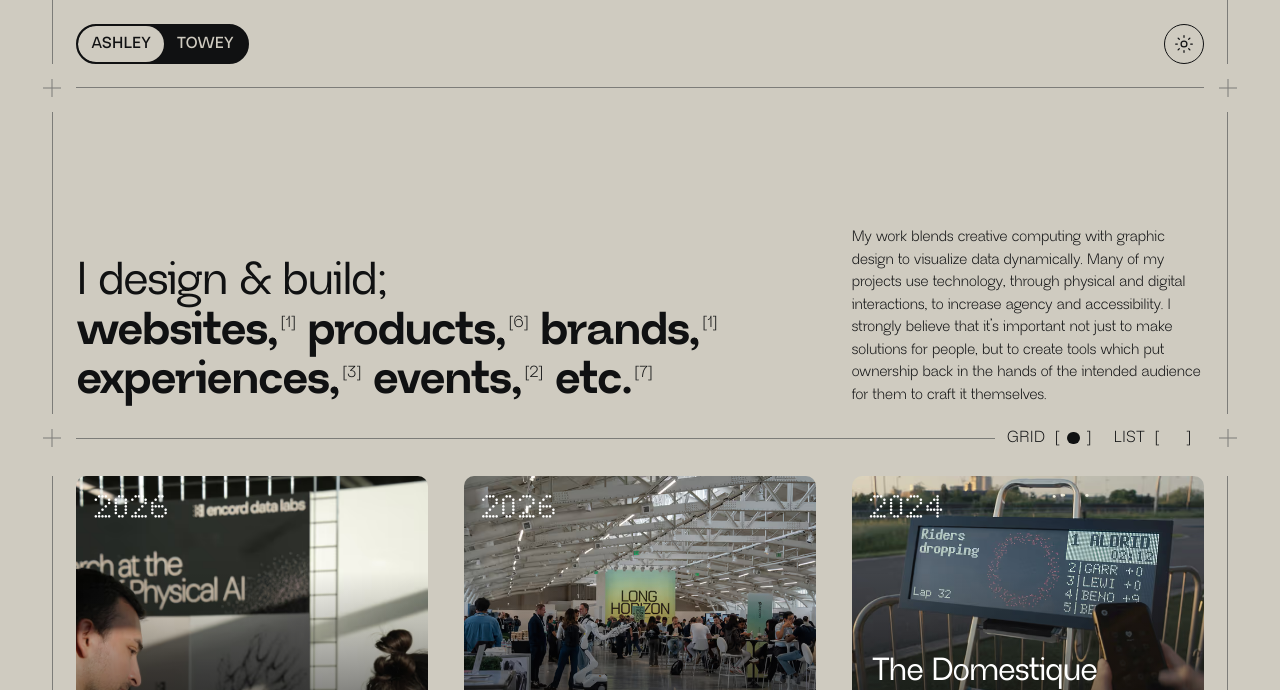
Test: theme toggle flips the document theme and remembers it
Later steps or results of the test are not shown.
Step 1. Click the button named "Dark theme" → (1184, 44), box [1164,24,1204,64]
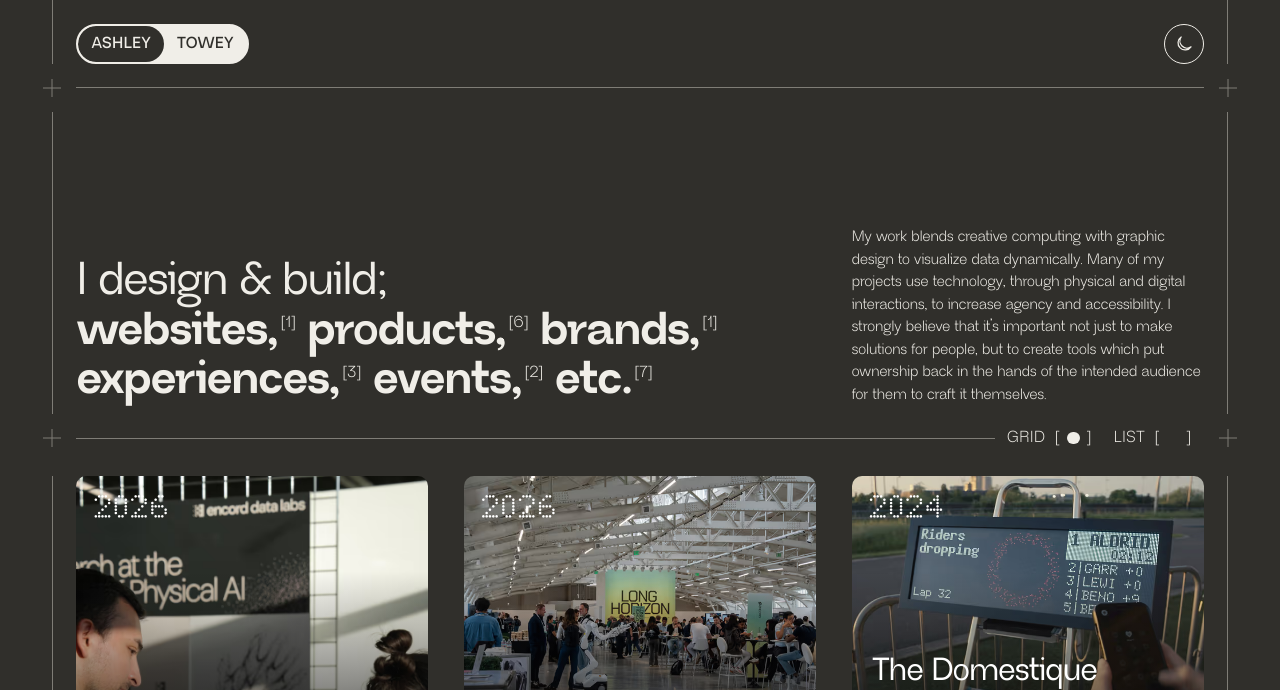
expect the button named "Dark theme" is pressed: met, box [1164,24,1204,64]
